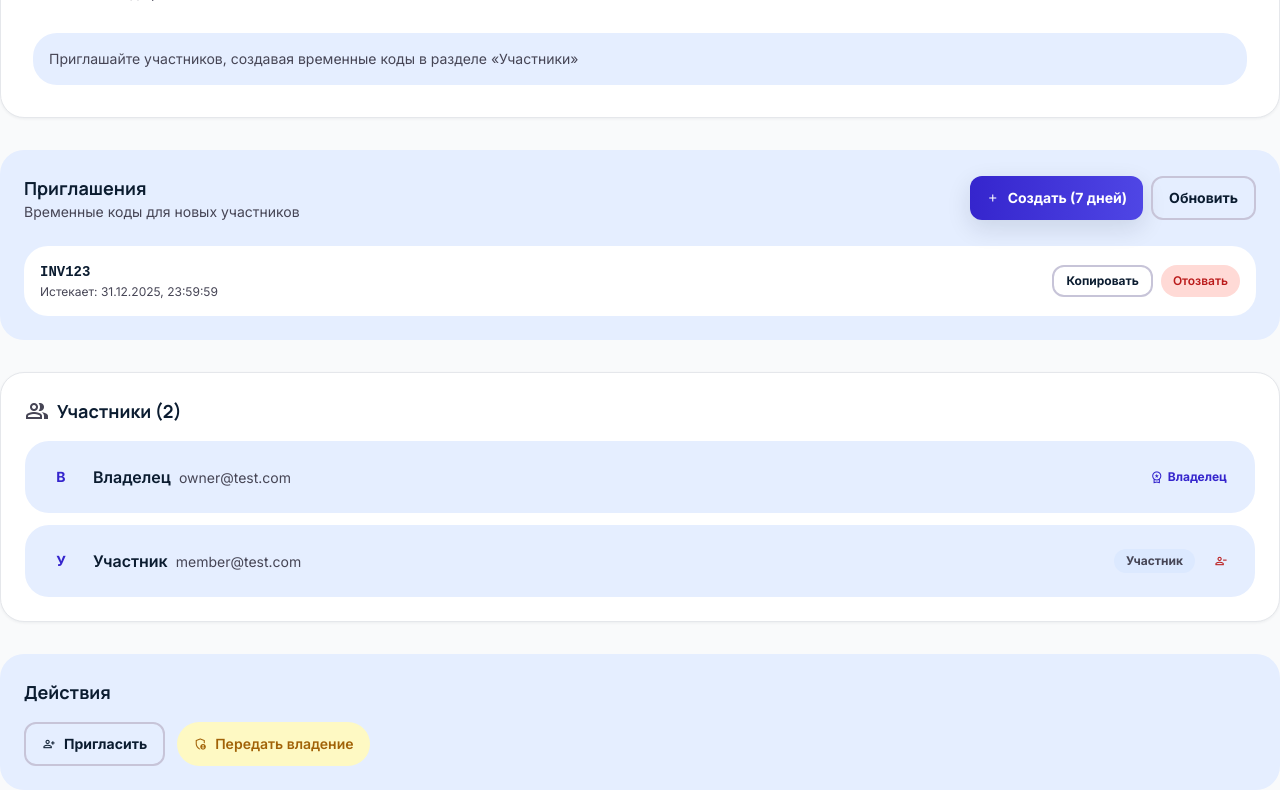
Scenario: Family › opens transfer ownership modal with member selection
(page scrolled)
What coordinates should you click on to do the following:
click the button "Передать владение"
I would click on:
 (273, 744)
Its box is [177,722,370,766].
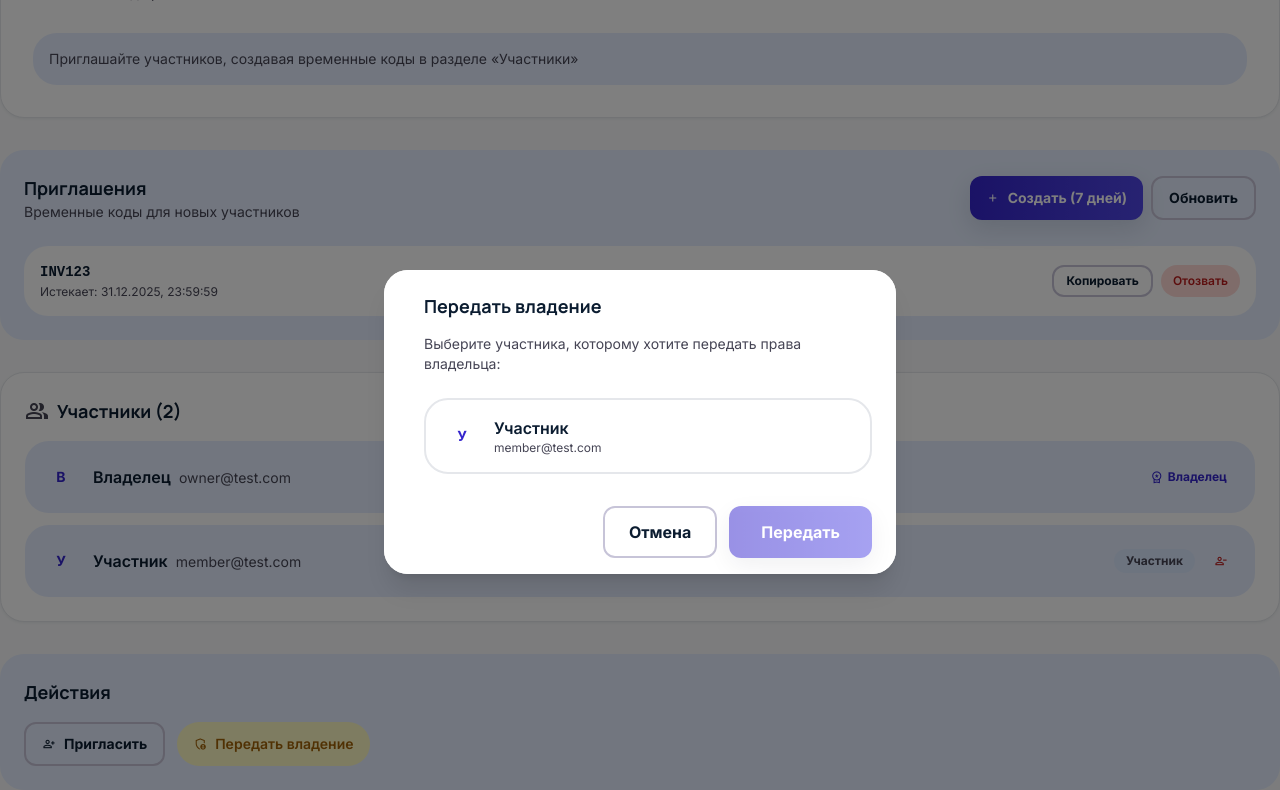
Now the text "Выберите участника, которому хотите передать права владельца:" is shown, box [424,335,801,372]
